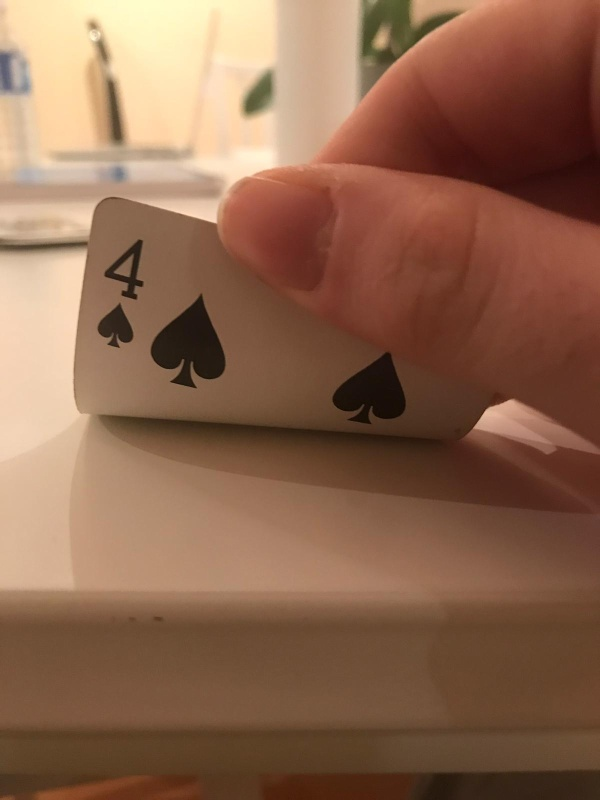S4: (95, 233, 149, 349)
